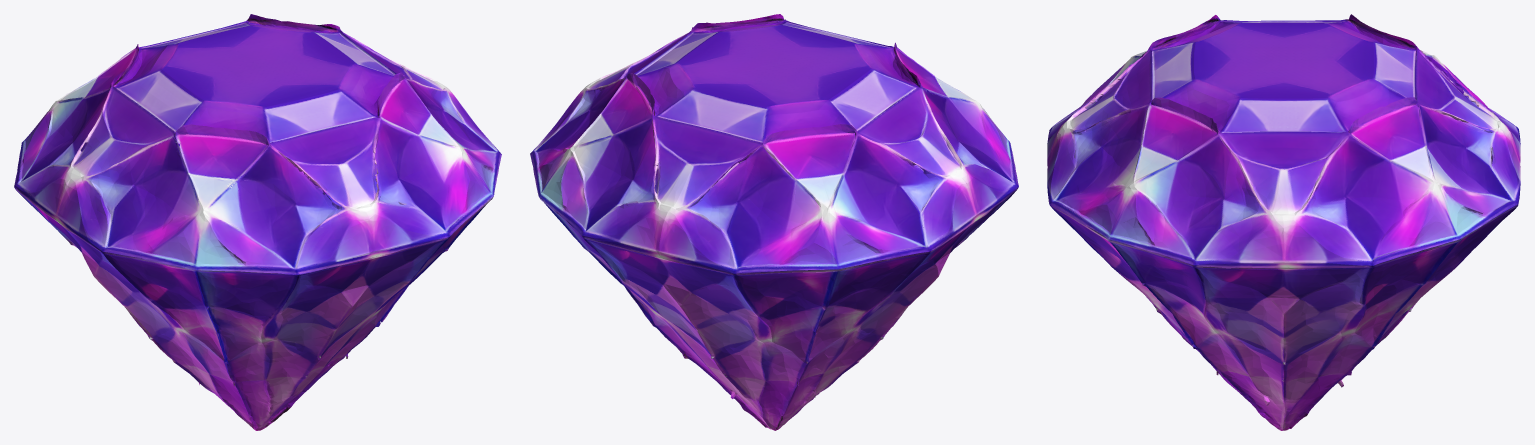
File: diamond-purple.glb
3 renders of one model, left to right at view 1: azimuth 30°, elevation 25°; view 2: azimuth 150°, elevation 25°; view 3: azimuth 270°, elevation 25°, orthographic.
Visible parts, largest first — view 1: world; view 2: world; view 3: world.
Part boxes in pixels (x1=…): world: x1=14, y1=14, x2=501, y2=430; world: x1=530, y1=14, x2=1018, y2=430; world: x1=1047, y1=14, x2=1520, y2=430.
Bounding box in the file's own units: 0.7001 × 0.6034 × 0.7002.
Materials: 1 (1 with a texture image).
